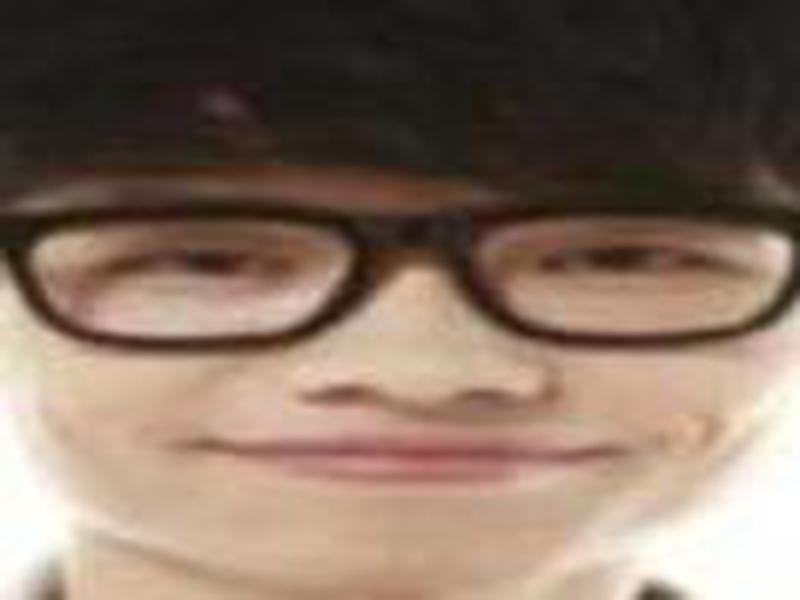without_mask: (4, 101, 800, 591)
